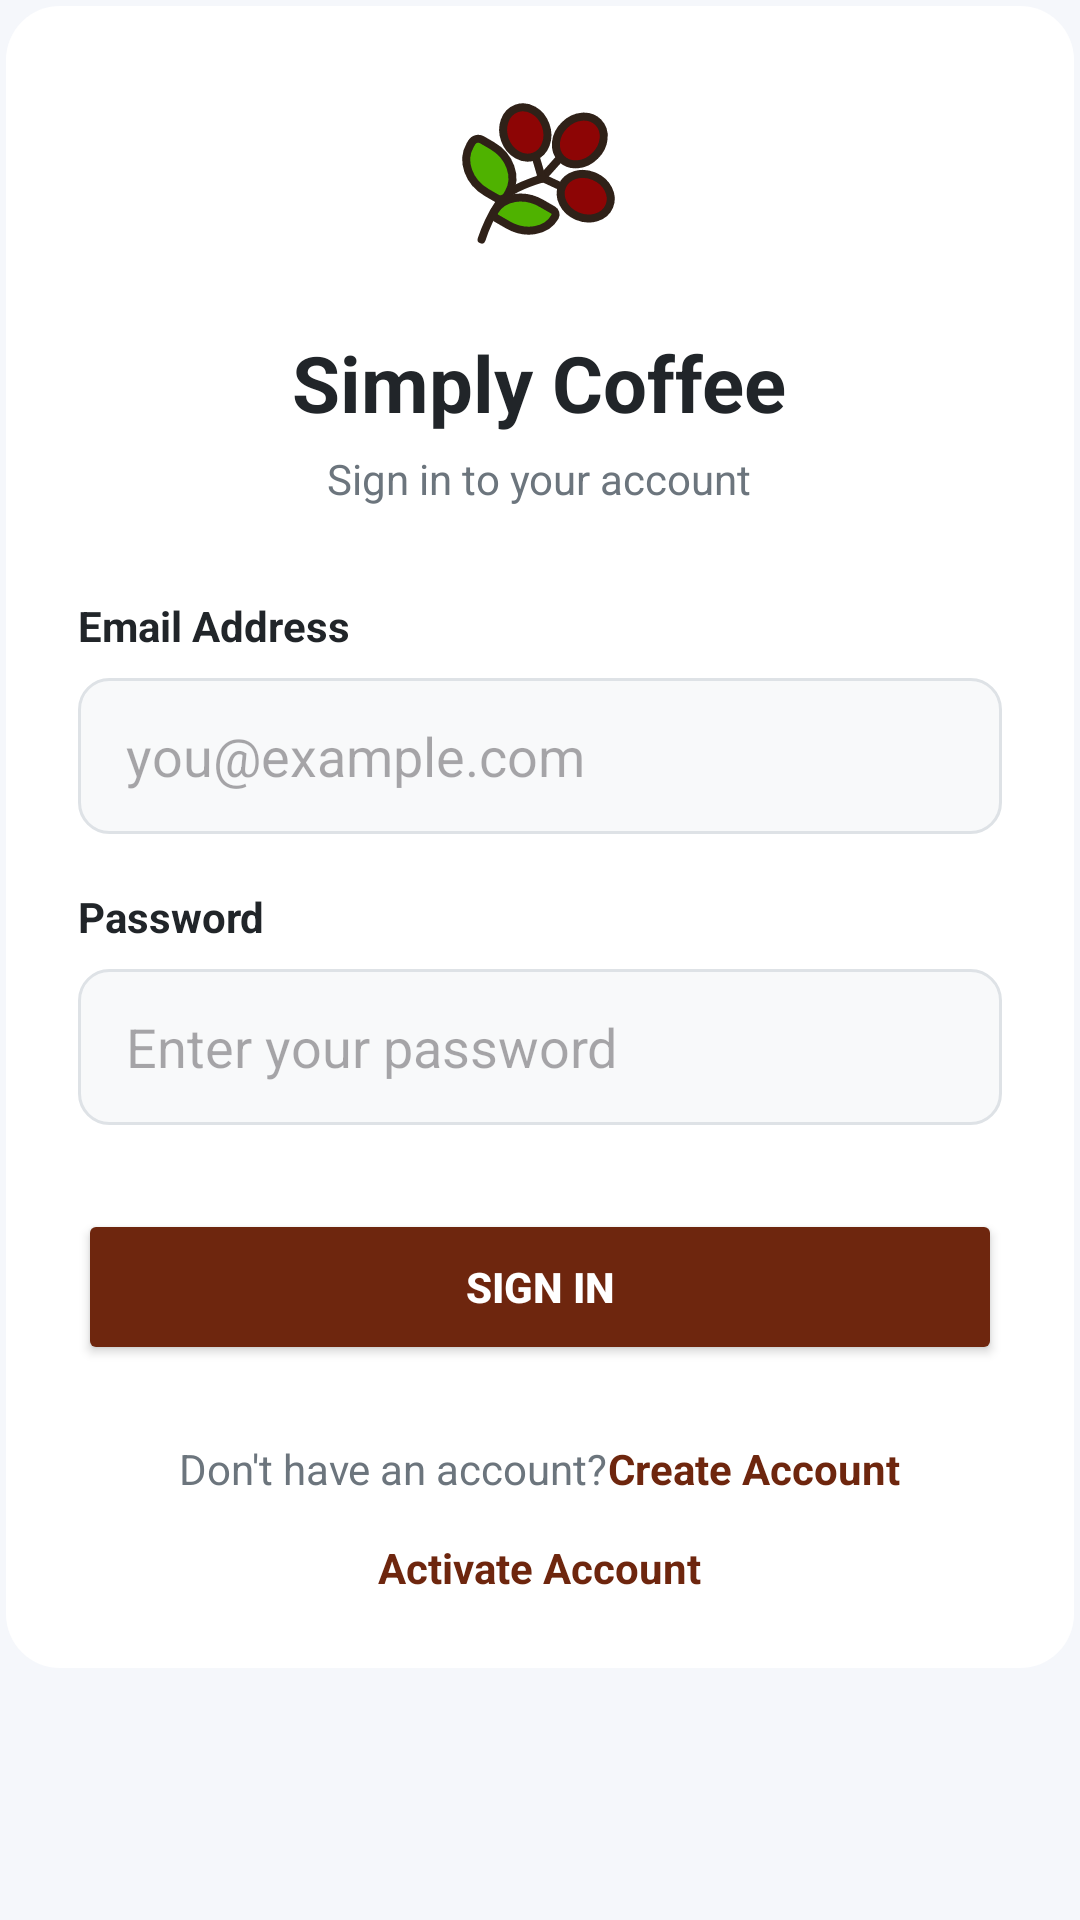

Screen size 1080*1920. Icon name, then its center in pixels as (x=x, y=y):
coffee tree: (x=538, y=173)
